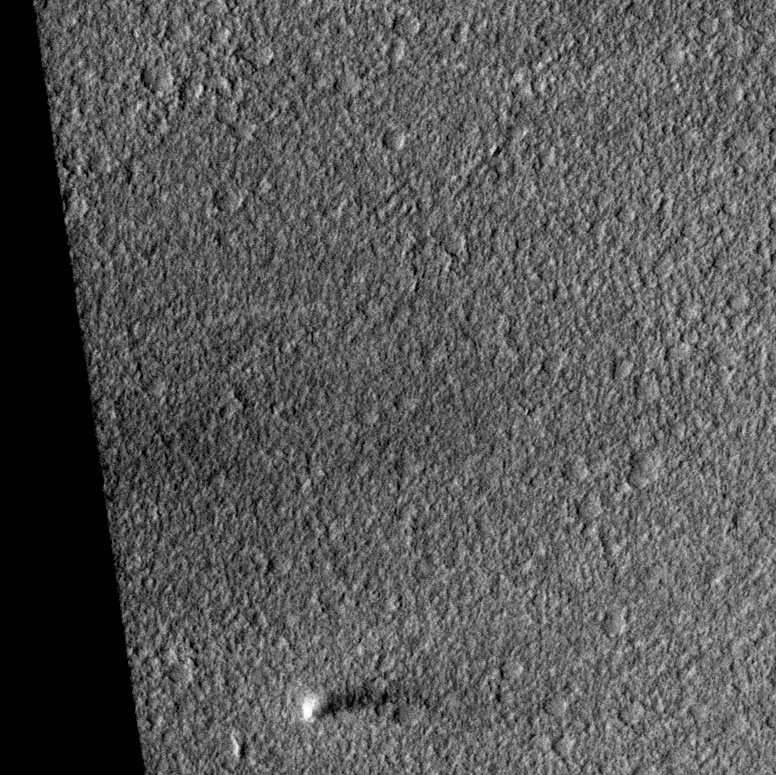dust_devil: (298, 679, 432, 726)
